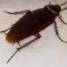cockroach: (4, 4, 62, 44)
